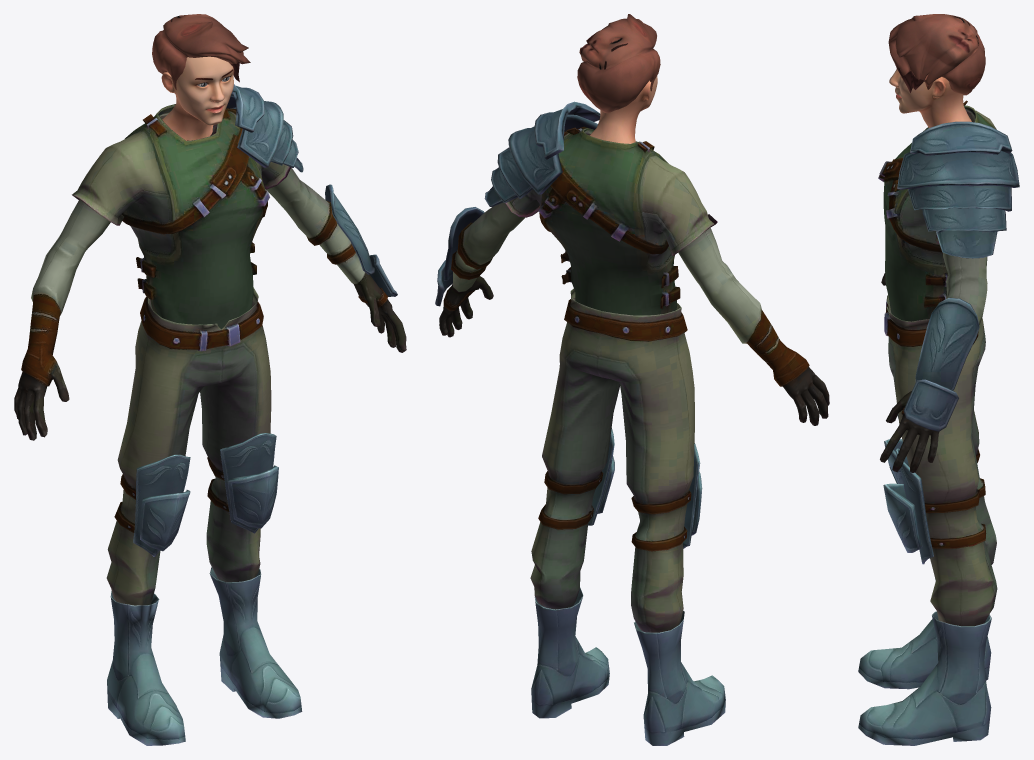
The model's file is Skinny_Character_Costume_2.glb.
The picture shows the model from 3 angles, left to right: view 1: azimuth 30°, elevation 25°; view 2: azimuth 150°, elevation 25°; view 3: azimuth 270°, elevation 25°; orthographic projection.
Parts seen in each view (by area): view 1: Wolf3D_Outfit_Top.002, Wolf3D_Outfit_Top.003, Wolf3D_Outfit_Top.008, Wolf3D_Outfit_Top.007, Outfit_Bottom.010, Outfit_Bottom.013; view 2: Wolf3D_Outfit_Top.002, Wolf3D_Outfit_Top.003, Wolf3D_Outfit_Top.008, Wolf3D_Outfit_Top.007, Outfit_Bottom.013, Outfit_Bottom.010; view 3: Wolf3D_Outfit_Top.002, Wolf3D_Outfit_Top.003, Wolf3D_Outfit_Top.007, Outfit_Bottom.013, Wolf3D_Outfit_Top.008, Outfit_Bottom.010.
Part boxes in pixels (x1,y1,x2,y2): Wolf3D_Outfit_Top.002: [14, 84, 406, 440]; Wolf3D_Outfit_Top.003: [106, 287, 278, 605]; Wolf3D_Outfit_Top.008: [107, 591, 185, 745]; Wolf3D_Outfit_Top.007: [209, 567, 302, 718]; Outfit_Bottom.010: [161, 56, 233, 140]; Outfit_Bottom.013: [152, 14, 250, 90]; Wolf3D_Outfit_Top.002: [435, 101, 829, 425]; Wolf3D_Outfit_Top.003: [530, 288, 702, 632]; Wolf3D_Outfit_Top.008: [634, 611, 725, 745]; Wolf3D_Outfit_Top.007: [531, 587, 609, 718]; Outfit_Bottom.013: [577, 14, 660, 113]; Outfit_Bottom.010: [589, 76, 657, 143]; Wolf3D_Outfit_Top.002: [878, 100, 1019, 472]; Wolf3D_Outfit_Top.003: [883, 295, 997, 626]; Wolf3D_Outfit_Top.007: [858, 611, 991, 745]; Outfit_Bottom.013: [888, 14, 985, 95]; Wolf3D_Outfit_Top.008: [858, 578, 991, 689]; Outfit_Bottom.010: [889, 68, 971, 127].
Bounding box in the file's own units: 1.07 × 1.87 × 0.3951.
6 materials, 6 textured.
